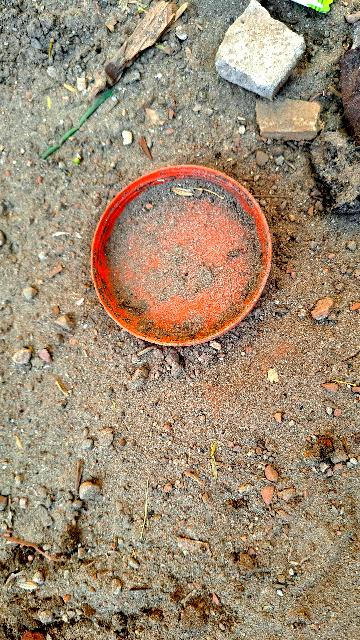hardplastic: (68, 164, 296, 359)
